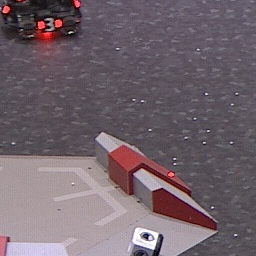Red: (36, 19, 62, 30)
Robot: (1, 1, 82, 35)
